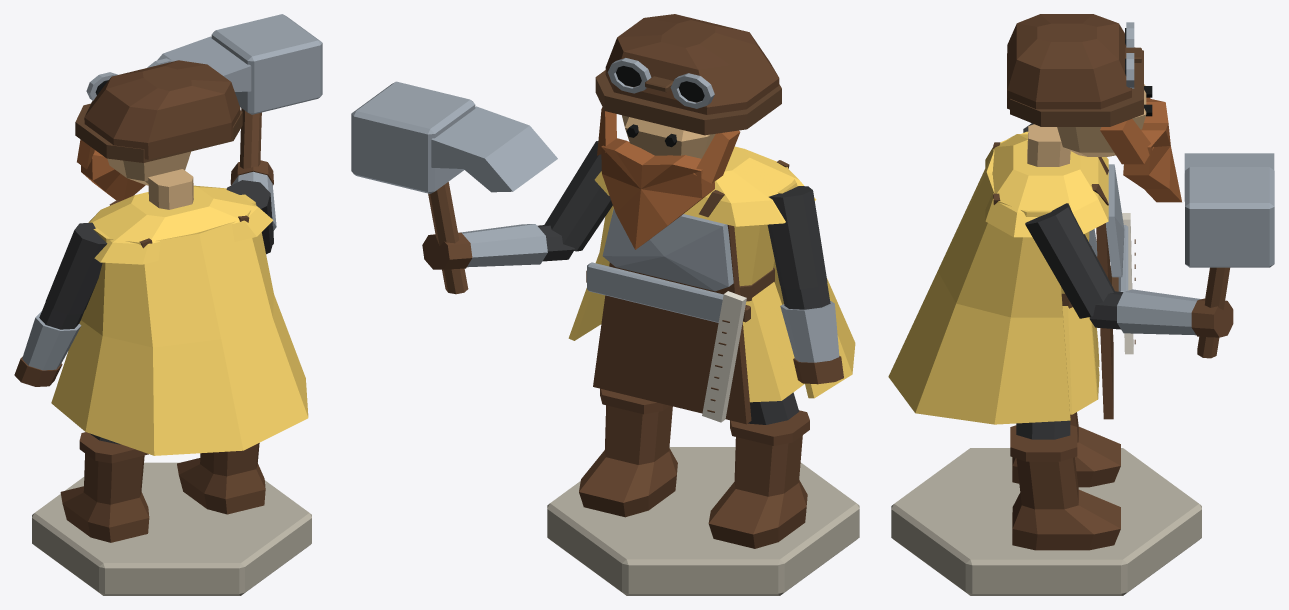
File: human_runebreaker_t6.glb
3 views of the same model, side by side, from view 1: azimuth 30°, elevation 25°; view 2: azimuth 150°, elevation 25°; view 3: azimuth 270°, elevation 25° (orthographic). The views are drawn at different scales.
Visible parts, largest first — view 1: Broad_Pointed_Back_Cape, Foundation_Hexagonal_Stone, engineer_plain_faceted_workcap, Continuous_Shoulder_Mantle, engineer_master_hammer_striking_face, Boot_-1, Boot_1, left_upper_sleeve, engineer_single_master_carpenter_claw, left_bracer, engineer_broad_brown_cap_band, Small_Neck (+9 smaller); view 2: Foundation_Hexagonal_Stone, engineer_long_wide_leather_apron, engineer_plain_faceted_workcap, engineer_master_hammer_striking_face, Boot_-1, Boot_1, engineer_one_copper_beard_wedge, engineer_single_master_carpenter_claw, engineer_single_front_protective_chest_panel, Continuous_Shoulder_Mantle, Continuous_Split_Tunic_Skirt, left_upper_sleeve (+20 smaller); view 3: Broad_Pointed_Back_Cape, Foundation_Hexagonal_Stone, engineer_plain_faceted_workcap, engineer_master_hammer_striking_face, Continuous_Shoulder_Mantle, Boot_1, right_upper_sleeve, engineer_one_copper_beard_wedge, right_bracer, engineer_broad_brown_cap_band, Continuous_Split_Tunic_Skirt, Boot_-1 (+12 smaller).
Boxes of the visible parts, x1,y1,x2,y2 form: Broad_Pointed_Back_Cape: [51, 194, 308, 455]; Foundation_Hexagonal_Stone: [32, 462, 311, 595]; engineer_plain_faceted_workcap: [84, 60, 240, 159]; Continuous_Shoulder_Mantle: [88, 185, 273, 264]; engineer_master_hammer_striking_face: [211, 14, 322, 114]; Boot_-1: [60, 453, 149, 542]; Boot_1: [177, 443, 265, 514]; left_upper_sleeve: [45, 222, 107, 314]; engineer_single_master_carpenter_claw: [157, 36, 251, 91]; left_bracer: [22, 311, 81, 370]; engineer_broad_brown_cap_band: [75, 103, 242, 162]; Small_Neck: [148, 169, 193, 209]; Foundation_Hexagonal_Stone: [547, 447, 859, 595]; engineer_long_wide_leather_apron: [593, 225, 751, 424]; engineer_plain_faceted_workcap: [605, 14, 779, 114]; engineer_master_hammer_striking_face: [351, 81, 475, 193]; Boot_-1: [708, 435, 807, 548]; Boot_1: [579, 405, 677, 517]; engineer_one_copper_beard_wedge: [601, 138, 714, 249]; engineer_single_master_carpenter_claw: [431, 106, 557, 192]; engineer_single_front_protective_chest_panel: [602, 208, 733, 291]; Continuous_Shoulder_Mantle: [594, 146, 816, 226]; Continuous_Split_Tunic_Skirt: [743, 282, 804, 402]; left_upper_sleeve: [767, 186, 827, 289]; Broad_Pointed_Back_Cape: [888, 131, 1070, 424]; Foundation_Hexagonal_Stone: [891, 448, 1201, 595]; engineer_plain_faceted_workcap: [1007, 14, 1131, 109]; engineer_master_hammer_striking_face: [1185, 167, 1274, 267]; Continuous_Shoulder_Mantle: [985, 134, 1108, 237]; Boot_1: [1012, 457, 1120, 550]; right_upper_sleeve: [1025, 203, 1114, 318]; engineer_one_copper_beard_wedge: [1123, 99, 1181, 202]; right_bracer: [1117, 289, 1201, 335]; engineer_broad_brown_cap_band: [1010, 47, 1143, 126]; Continuous_Split_Tunic_Skirt: [1062, 306, 1097, 414]; Boot_-1: [1012, 412, 1120, 487].
Bounding box in the file's own units: 1.35 × 1.68 × 1.15.
